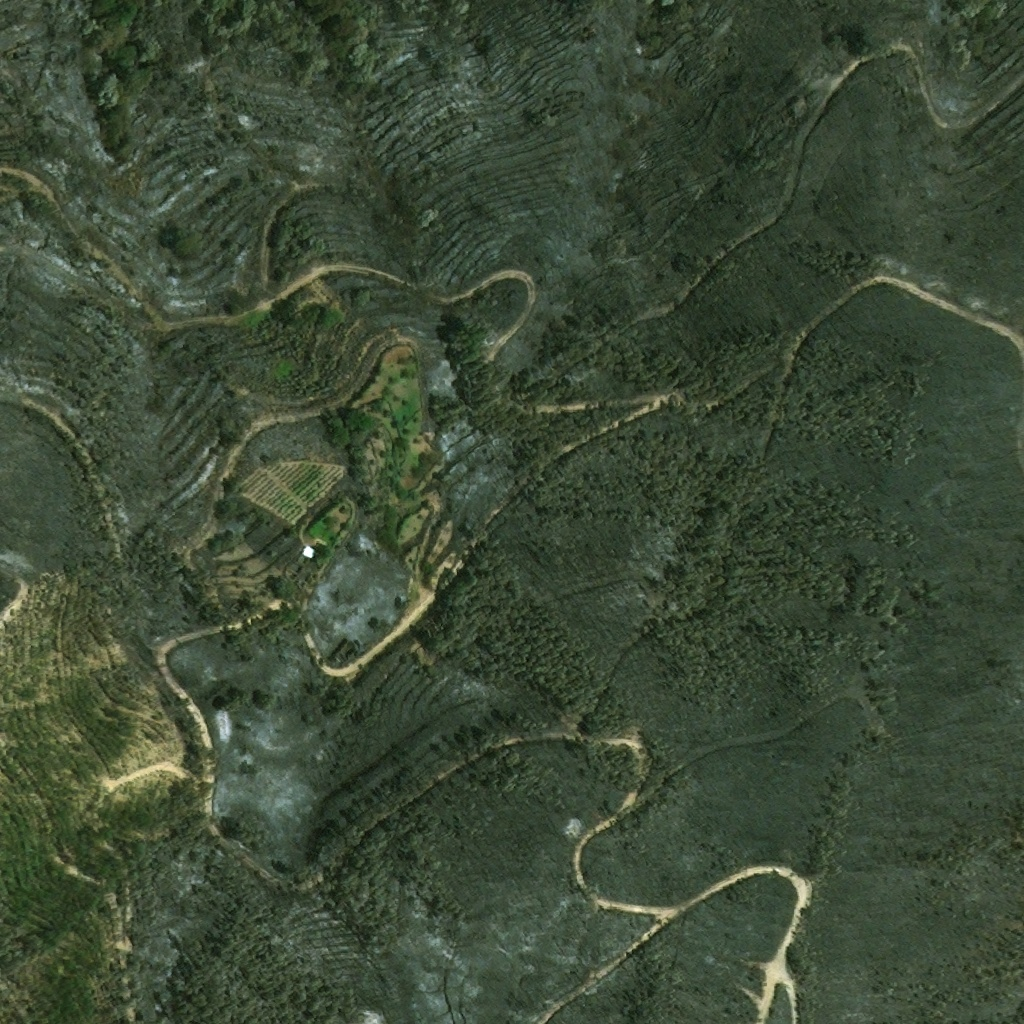0 no-damage: (298, 546, 315, 560)
